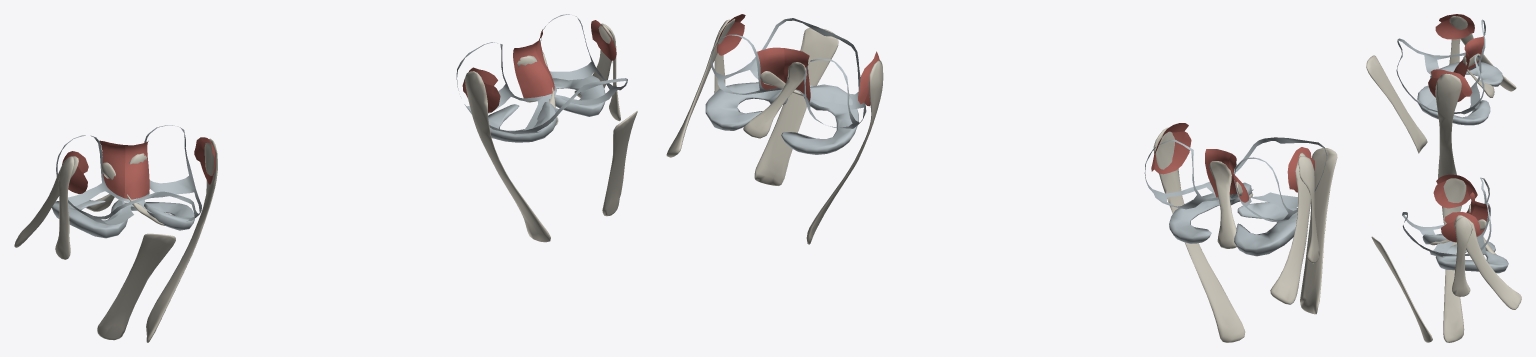
File: adult_female.joint.LOD1.glb
3 renders of one model, left to right at view 1: azimuth 30°, elevation 25°; view 2: azimuth 150°, elevation 25°; view 3: azimuth 270°, elevation 25°, orthographic. The views are drawn at different scales.
Parts seen in each view (by area): view 1: ADULT.FEMALE.JOINT.PATELLAR_LIGAMENT.R, ADULT.FEMALE.JOINT.MENISCUS.L, ADULT.FEMALE.JOINT.ARTICULAR_CARTILAGE_OF_KNEE.R, ADULT.FEMALE.JOINT.ARTICULAR_CARTILAGE_OF_KNEE.L, ADULT.FEMALE.JOINT.TIBIAL_COLLATERAL_LIGAMENT.L, ADULT.FEMALE.JOINT.MENISCUS.R, ADULT.FEMALE.JOINT.TIBIAL_COLLATERAL_LIGAMENT.R, ADULT.FEMALE.JOINT.PATELLAR_LIGAMENT.L, ADULT.FEMALE.JOINT.POSTERIOR_CRUCIATE_ENTHESIS.L, ADULT.FEMALE.JOINT.POSTERIOR_CRUCIATE_ENTHESIS.R, ADULT.FEMALE.JOINT.ANTEROLATERAL_LIGAMENT_OF_KNEE.R, ADULT.FEMALE.JOINT.ANTERIOR_CRUCIATE_ENTHESIS.R (+2 smaller); view 2: ADULT.FEMALE.JOINT.MENISCUS.L, ADULT.FEMALE.JOINT.MENISCUS.R, ADULT.FEMALE.JOINT.PATELLAR_LIGAMENT.L, ADULT.FEMALE.JOINT.TIBIAL_COLLATERAL_LIGAMENT.R, ADULT.FEMALE.JOINT.PATELLAR_LIGAMENT.R, ADULT.FEMALE.JOINT.ARTICULAR_CARTILAGE_OF_KNEE.R, ADULT.FEMALE.JOINT.ARTICULAR_CARTILAGE_OF_KNEE.L, ADULT.FEMALE.JOINT.FIBULAR_COLLATERAL_LIGAMENT.R, ADULT.FEMALE.JOINT.POSTERIOR_CRUCIATE_LIGAMENT_OF_KNEE.R, ADULT.FEMALE.JOINT.POSTERIOR_CRUCIATE_LIGAMENT_OF_KNEE.L, ADULT.FEMALE.JOINT.TIBIAL_COLLATERAL_LIGAMENT.L, ADULT.FEMALE.JOINT.ANTEROLATERAL_LIGAMENT_OF_KNEE.R (+6 smaller); view 3: ADULT.FEMALE.JOINT.TIBIAL_COLLATERAL_LIGAMENT.R, ADULT.FEMALE.JOINT.TIBIAL_COLLATERAL_LIGAMENT.L, ADULT.FEMALE.JOINT.MENISCUS.R, ADULT.FEMALE.JOINT.FIBULAR_COLLATERAL_LIGAMENT.L, ADULT.FEMALE.JOINT.PATELLAR_LIGAMENT.R, ADULT.FEMALE.JOINT.ARTICULAR_CARTILAGE_OF_KNEE.R, ADULT.FEMALE.JOINT.MENISCUS.L, ADULT.FEMALE.JOINT.ARTICULAR_CARTILAGE_OF_KNEE.L, ADULT.FEMALE.JOINT.ANTEROLATERAL_LIGAMENT_OF_KNEE.L, ADULT.FEMALE.JOINT.PATELLAR_LIGAMENT.L, ADULT.FEMALE.JOINT.FIBULAR_COLLATERAL_LIGAMENT.R, ADULT.FEMALE.JOINT.LATERAL_PERICHONDULAR_SURFACE.R (+13 smaller).
Boxes of the visible parts, x1,y1,x2,y2 form: ADULT.FEMALE.JOINT.PATELLAR_LIGAMENT.R: (97,233,175,340); ADULT.FEMALE.JOINT.MENISCUS.L: (488,75,605,142); ADULT.FEMALE.JOINT.ARTICULAR_CARTILAGE_OF_KNEE.R: (56,125,201,224); ADULT.FEMALE.JOINT.ARTICULAR_CARTILAGE_OF_KNEE.L: (456,14,627,134); ADULT.FEMALE.JOINT.TIBIAL_COLLATERAL_LIGAMENT.L: (464,71,550,242); ADULT.FEMALE.JOINT.MENISCUS.R: (52,200,194,238); ADULT.FEMALE.JOINT.TIBIAL_COLLATERAL_LIGAMENT.R: (146,138,217,342); ADULT.FEMALE.JOINT.PATELLAR_LIGAMENT.L: (602,111,637,216); ADULT.FEMALE.JOINT.POSTERIOR_CRUCIATE_ENTHESIS.L: (513,41,554,98); ADULT.FEMALE.JOINT.POSTERIOR_CRUCIATE_ENTHESIS.R: (124,141,149,199); ADULT.FEMALE.JOINT.ANTEROLATERAL_LIGAMENT_OF_KNEE.R: (55,156,74,259); ADULT.FEMALE.JOINT.ANTERIOR_CRUCIATE_ENTHESIS.R: (99,140,125,197); ADULT.FEMALE.JOINT.MENISCUS.L: (705,82,858,154); ADULT.FEMALE.JOINT.MENISCUS.R: (1169,182,1297,256); ADULT.FEMALE.JOINT.PATELLAR_LIGAMENT.L: (754,28,838,185); ADULT.FEMALE.JOINT.TIBIAL_COLLATERAL_LIGAMENT.R: (1153,127,1245,342); ADULT.FEMALE.JOINT.PATELLAR_LIGAMENT.R: (1300,148,1337,314); ADULT.FEMALE.JOINT.ARTICULAR_CARTILAGE_OF_KNEE.R: (1144,137,1327,221); ADULT.FEMALE.JOINT.ARTICULAR_CARTILAGE_OF_KNEE.L: (710,18,866,128); ADULT.FEMALE.JOINT.FIBULAR_COLLATERAL_LIGAMENT.R: (1270,153,1311,304); ADULT.FEMALE.JOINT.POSTERIOR_CRUCIATE_LIGAMENT_OF_KNEE.R: (1209,161,1236,248); ADULT.FEMALE.JOINT.POSTERIOR_CRUCIATE_LIGAMENT_OF_KNEE.L: (743,62,807,138); ADULT.FEMALE.JOINT.TIBIAL_COLLATERAL_LIGAMENT.L: (806,60,883,244); ADULT.FEMALE.JOINT.ANTEROLATERAL_LIGAMENT_OF_KNEE.R: (1298,156,1319,263); ADULT.FEMALE.JOINT.TIBIAL_COLLATERAL_LIGAMENT.R: (1435,73,1461,178); ADULT.FEMALE.JOINT.TIBIAL_COLLATERAL_LIGAMENT.L: (1442,178,1466,342); ADULT.FEMALE.JOINT.MENISCUS.R: (1417,62,1503,125); ADULT.FEMALE.JOINT.FIBULAR_COLLATERAL_LIGAMENT.L: (1454,215,1521,309); ADULT.FEMALE.JOINT.PATELLAR_LIGAMENT.R: (1366,55,1427,153); ADULT.FEMALE.JOINT.ARTICULAR_CARTILAGE_OF_KNEE.R: (1396,19,1485,114); ADULT.FEMALE.JOINT.MENISCUS.L: (1422,233,1508,273); ADULT.FEMALE.JOINT.ARTICULAR_CARTILAGE_OF_KNEE.L: (1402,177,1491,257); ADULT.FEMALE.JOINT.ANTEROLATERAL_LIGAMENT_OF_KNEE.L: (1452,216,1472,296); ADULT.FEMALE.JOINT.PATELLAR_LIGAMENT.L: (1371,236,1432,342); ADULT.FEMALE.JOINT.FIBULAR_COLLATERAL_LIGAMENT.R: (1449,16,1516,91); ADULT.FEMALE.JOINT.LATERAL_PERICHONDULAR_SURFACE.R: (1435,19,1469,39).
Size of the model in its own units: 0.357 by 0.1167 by 0.1064.
